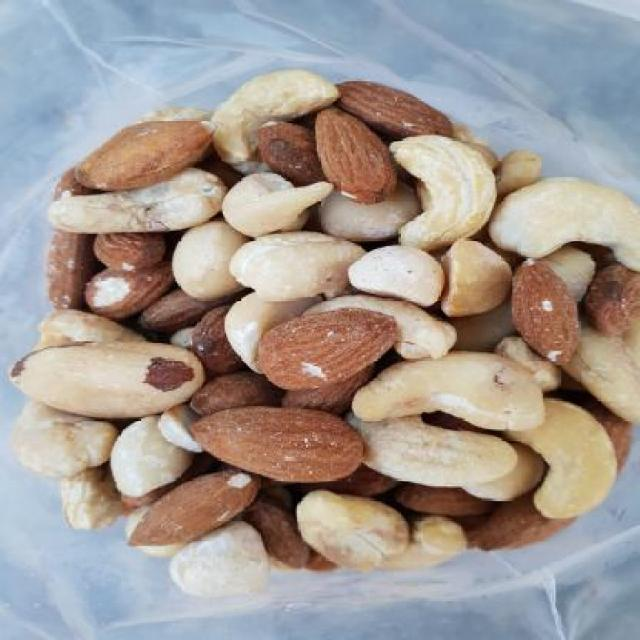Frutta secca: (9, 78, 638, 592)
